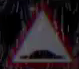Speed Breaker ahead: (4, 5, 78, 68)
